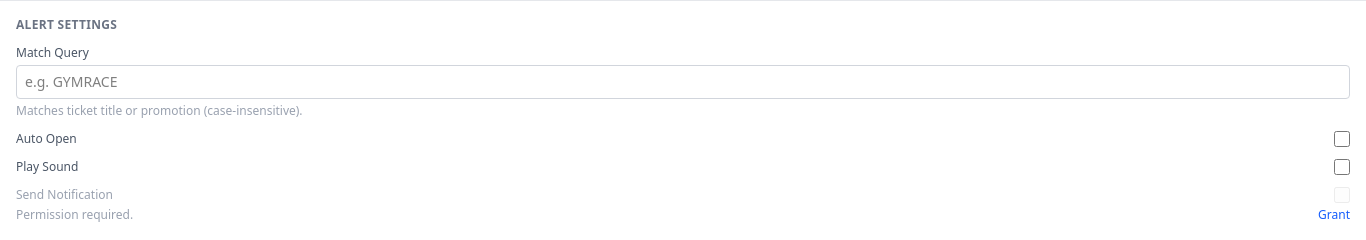
Test: AlertSettings › Send Notification toggle › enables Send Notification checkbox after permission is granted via Grant button
Click the button "Grant": x=1334, y=215 [1318,207,1350,223]
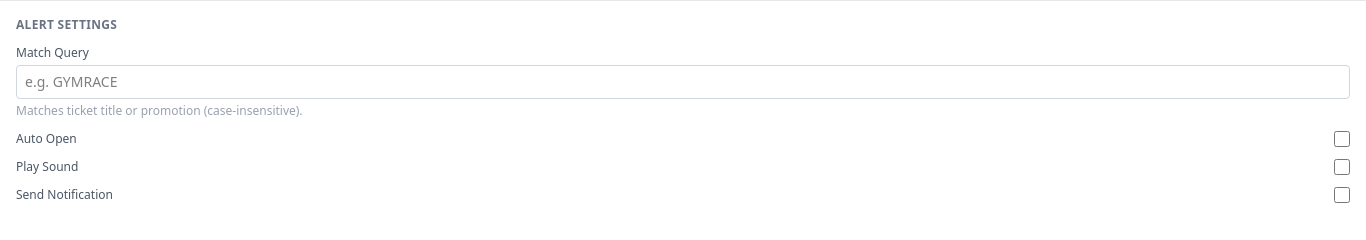
Check: the checkbox labelled "Send Notification" is enabled, box [1334,187,1350,203]
